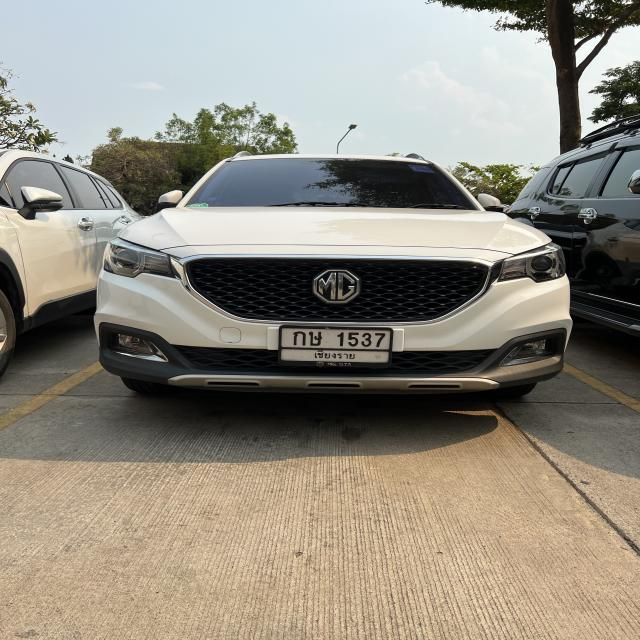license_plate: (276, 323, 392, 368)
